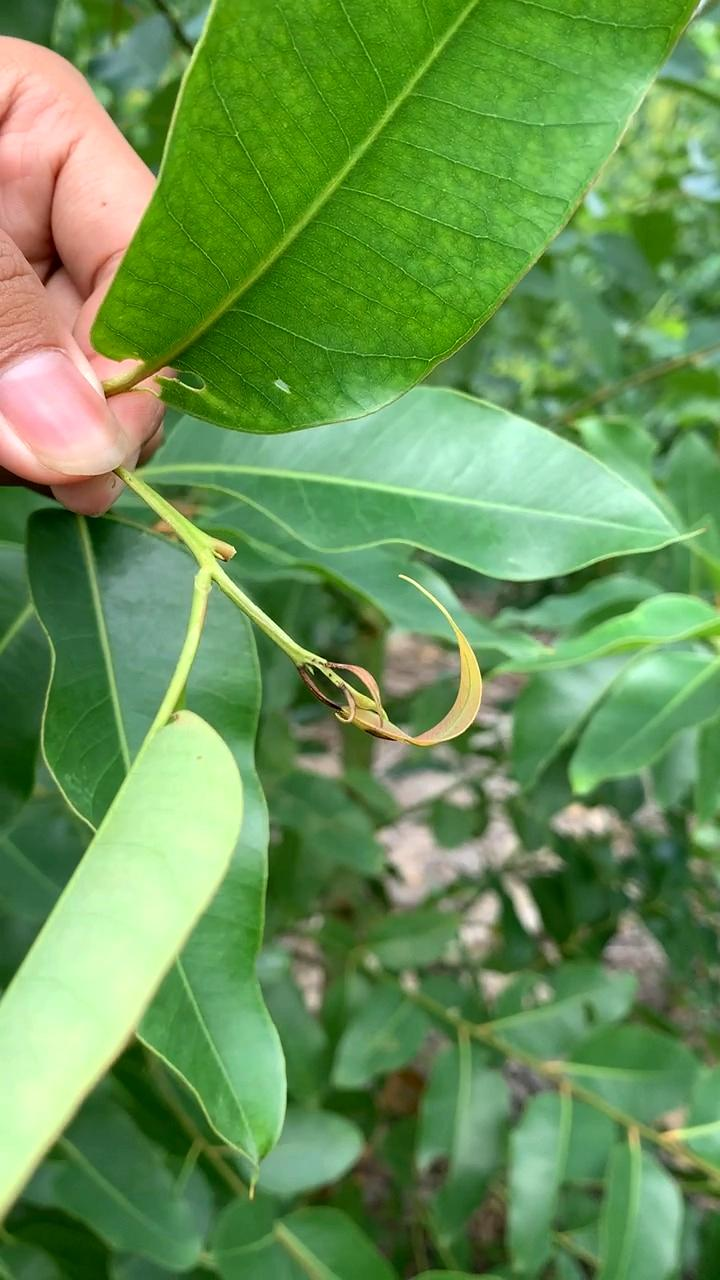Helopeltis-Withered Sprout: (295, 643, 483, 757)
